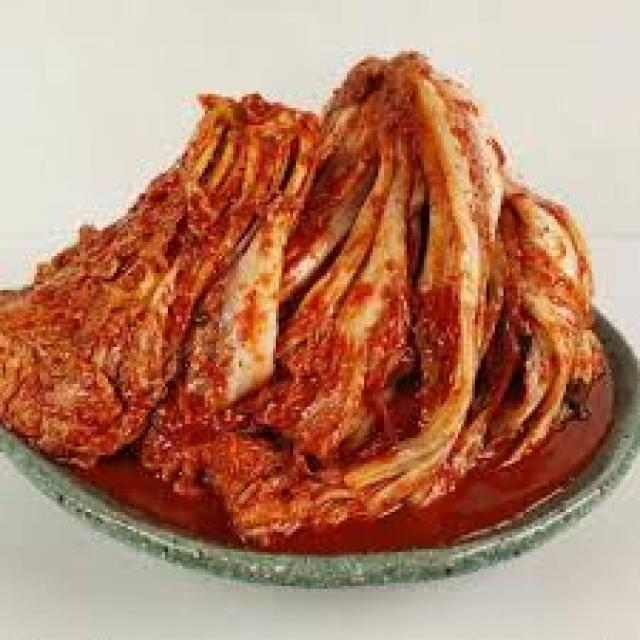kimchi: (77, 85, 492, 441)
